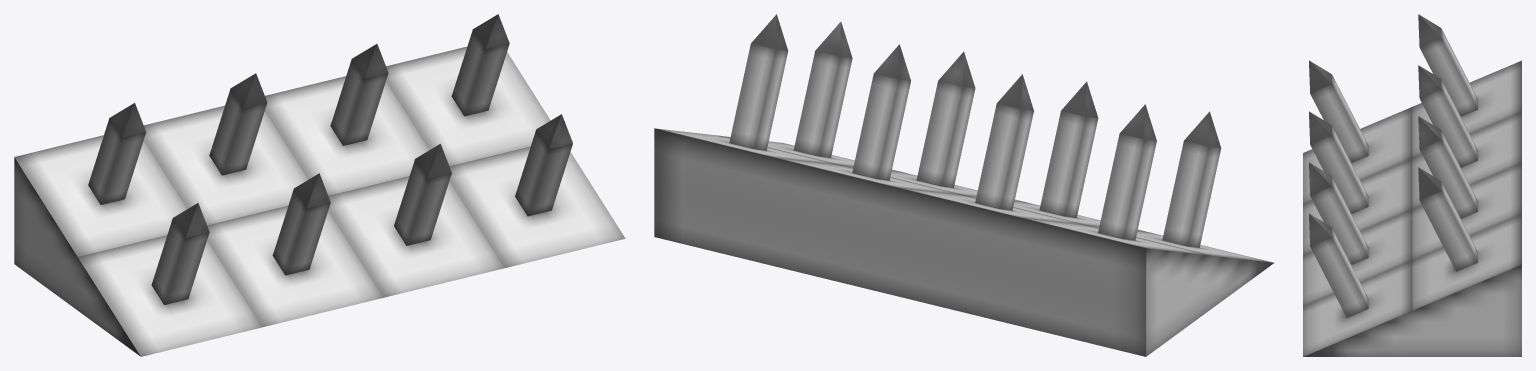
File: Tank-Barrier-02.fbx
3 views of the same model, side by side, from view 1: azimuth 30°, elevation 25°; view 2: azimuth 150°, elevation 25°; view 3: azimuth 270°, elevation 25° (orthographic). The views are drawn at different scales.
Parts seen in each view (by area): view 1: Tank_Barrier_02; view 2: Tank_Barrier_02; view 3: Tank_Barrier_02.
Boxes of the visible parts, box(x1,y1,x2,y2) form: Tank_Barrier_02: box(14, 14, 625, 356); Tank_Barrier_02: box(654, 14, 1274, 356); Tank_Barrier_02: box(1303, 14, 1521, 356).
Size of the model in its own units: 0.4997 by 0.1879 by 0.2264.
